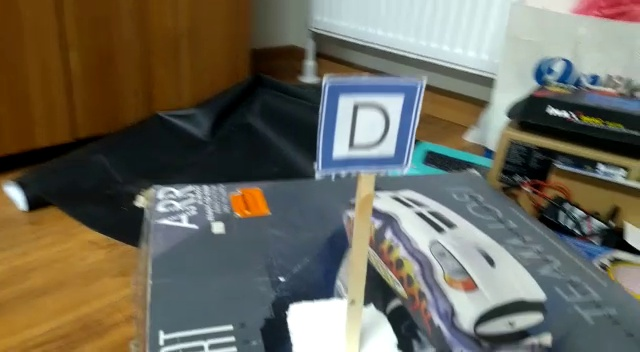durak: (318, 84, 421, 165)
